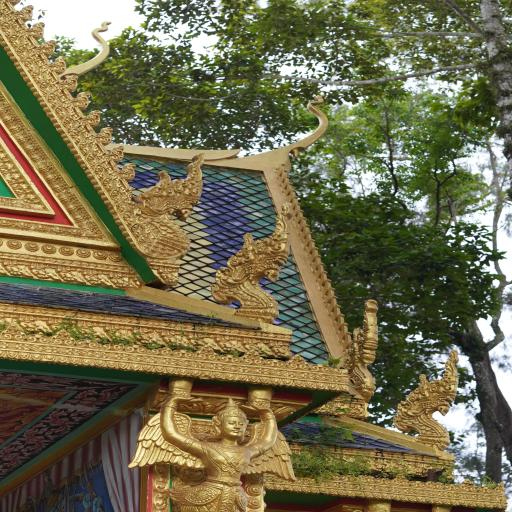lua: (262, 90, 338, 178), (48, 11, 124, 81), (69, 88, 95, 114), (82, 108, 110, 129), (92, 124, 121, 144), (118, 159, 142, 183), (14, 0, 37, 25), (55, 74, 82, 94), (34, 35, 60, 55), (44, 51, 67, 73), (27, 17, 48, 41), (106, 144, 127, 163)
ran: (210, 201, 308, 333), (384, 342, 478, 450), (130, 147, 208, 265), (339, 289, 392, 425)
than: (127, 377, 304, 512)
